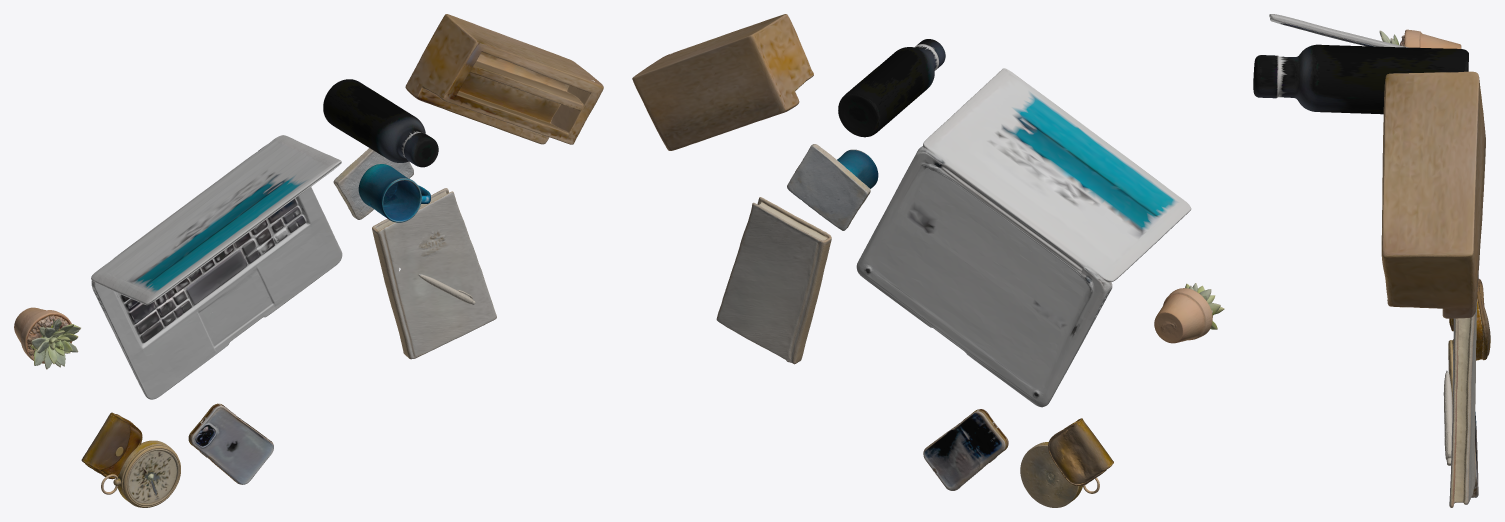
The model's file is simfoundry_output.glb.
The picture shows the model from 3 angles, left to right: view 1: azimuth 30°, elevation 25°; view 2: azimuth 150°, elevation 25°; view 3: azimuth 270°, elevation 25°; orthographic projection. The views are drawn at different scales.
Size of the model in its own units: 1.07 by 0.7496 by 0.2892.
